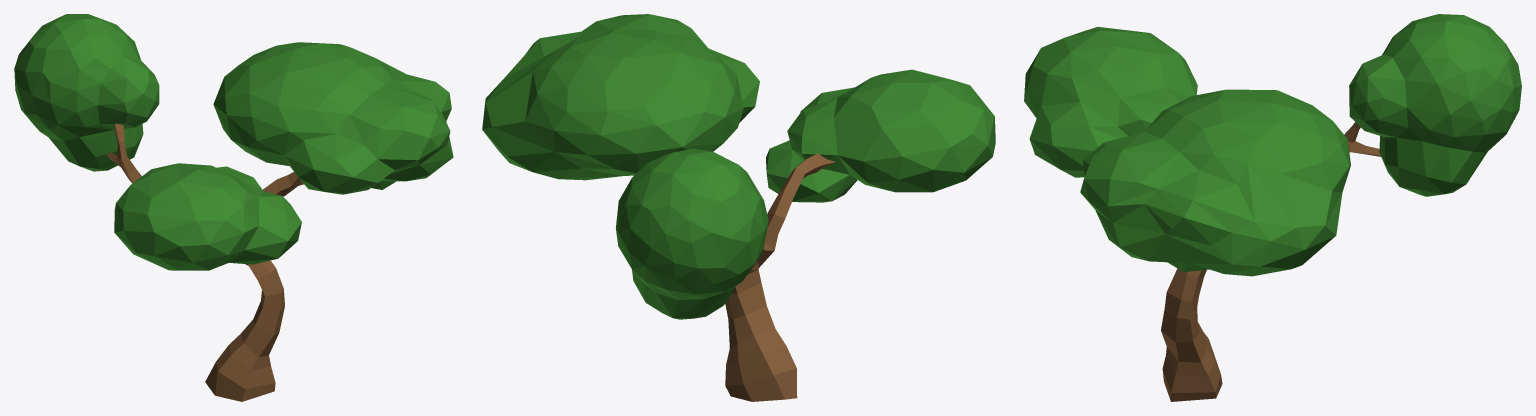
The model's file is SM_RF_AshTree_009.fbx.
The picture shows the model from 3 angles, left to right: view 1: azimuth 30°, elevation 25°; view 2: azimuth 150°, elevation 25°; view 3: azimuth 270°, elevation 25°; orthographic projection. The views are drawn at different scales.
Parts seen in each view (by area): view 1: SM_RF_AshTree_009; view 2: SM_RF_AshTree_009; view 3: SM_RF_AshTree_009.
Boxes of the visible parts, <box> form: SM_RF_AshTree_009: <box>14,14,453,401</box>; SM_RF_AshTree_009: <box>482,14,995,401</box>; SM_RF_AshTree_009: <box>1024,14,1521,401</box>.
Size of the model in its own units: 1277 by 1002 by 1325.
